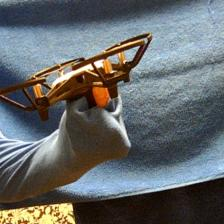drone: (0, 32, 153, 120)
